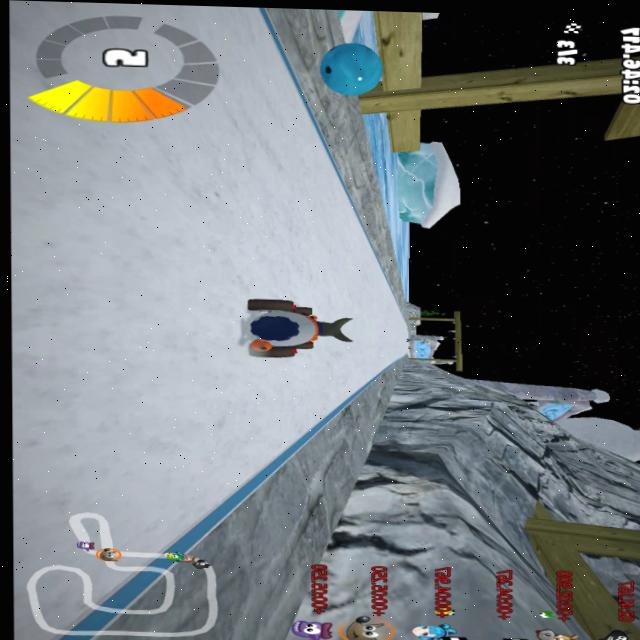player_kart: (240, 296, 349, 364)
track: (7, 0, 232, 494), (228, 140, 347, 299), (18, 486, 171, 554), (223, 7, 287, 140), (20, 548, 110, 605), (234, 362, 281, 466), (341, 212, 380, 312), (284, 362, 317, 439), (354, 314, 410, 354), (168, 488, 216, 513), (319, 364, 339, 410), (338, 363, 355, 394), (353, 353, 365, 391), (381, 289, 399, 313), (366, 355, 390, 365)
